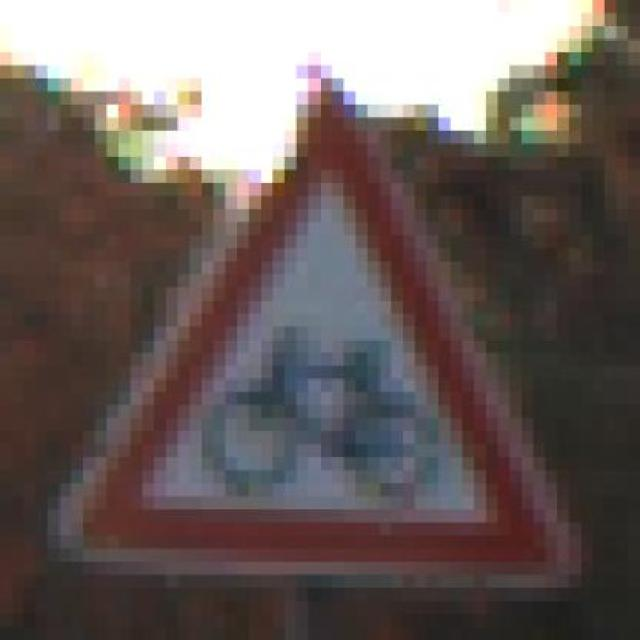CYCLE ROUTE AHEAD WARNING: (48, 65, 580, 613)
